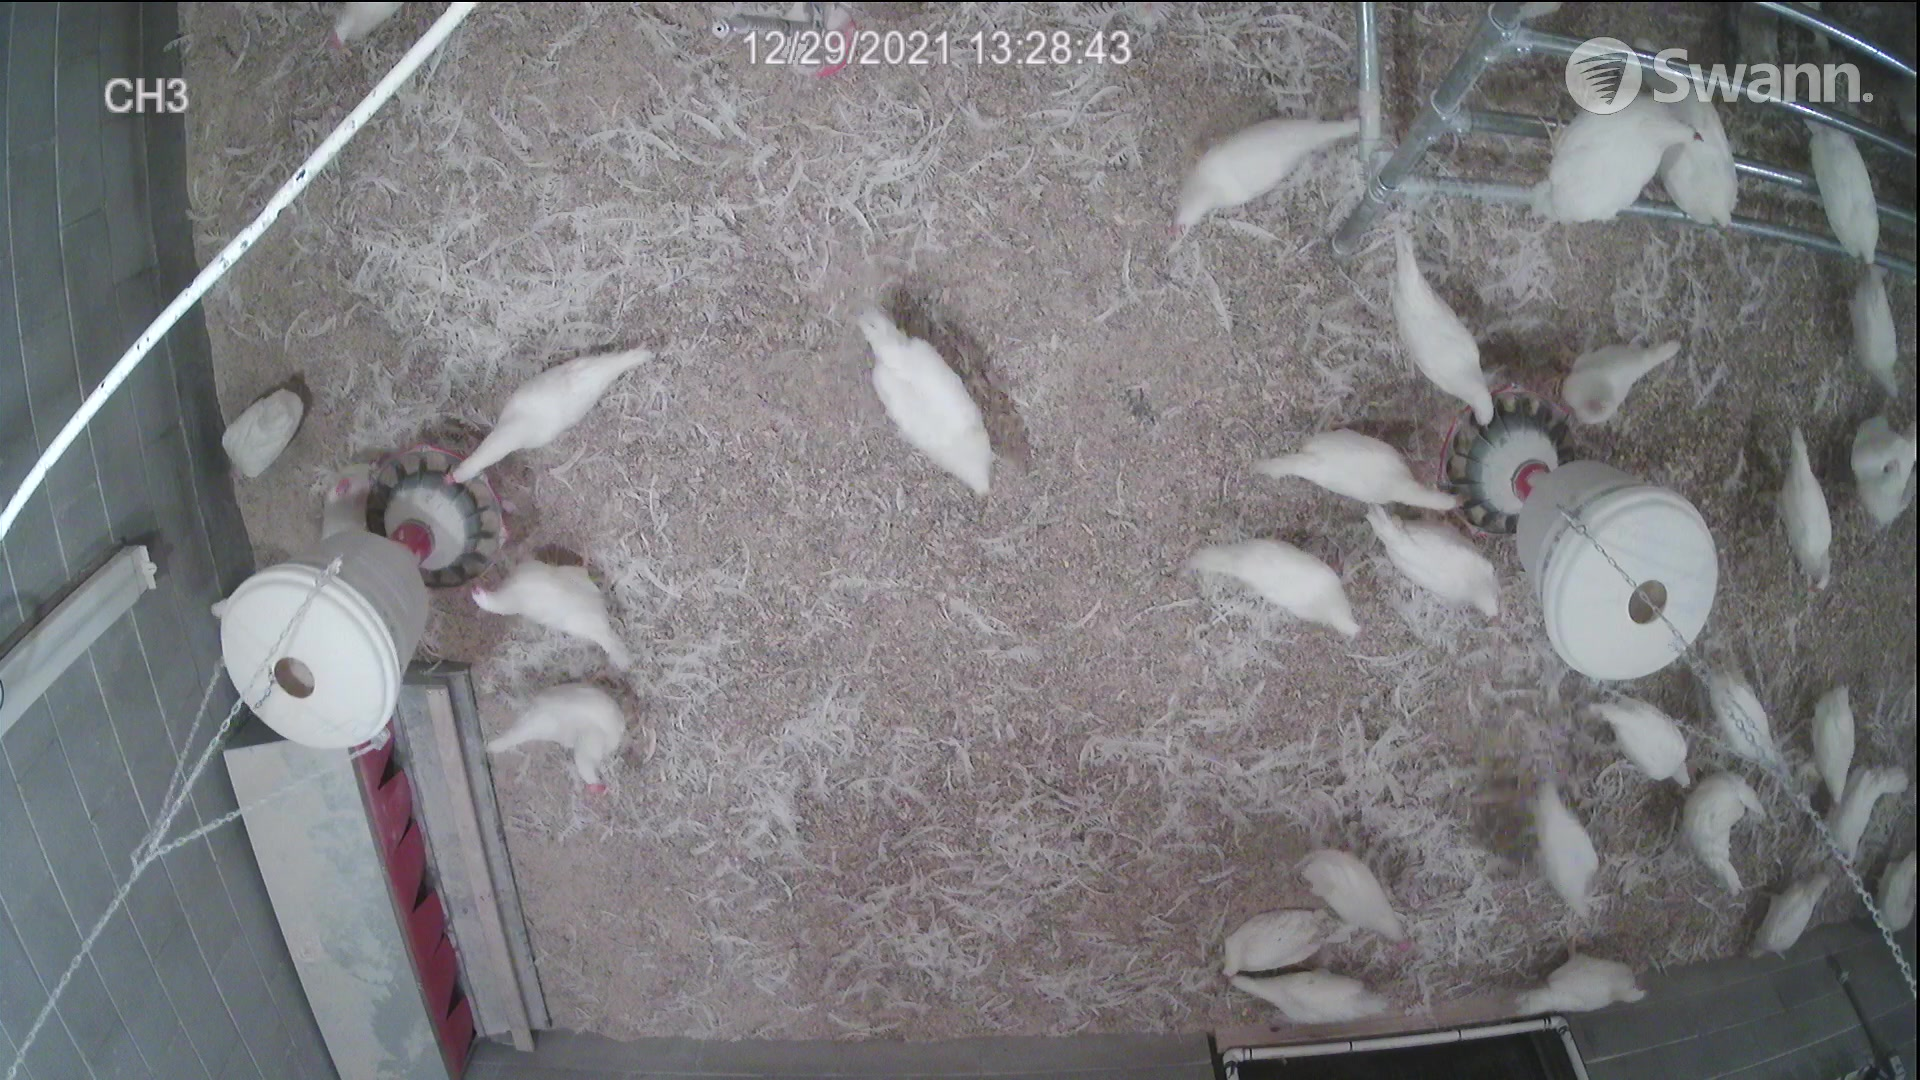Feeding: (436, 331, 662, 488), (451, 541, 659, 669), (1399, 225, 1523, 433), (1251, 422, 1481, 512)
Foraging: (851, 301, 1011, 506), (1159, 117, 1366, 252), (1183, 527, 1361, 645), (1585, 687, 1712, 796), (215, 364, 305, 483)
Perching: (1549, 79, 1698, 223), (1651, 73, 1756, 255), (1797, 108, 1891, 262)
